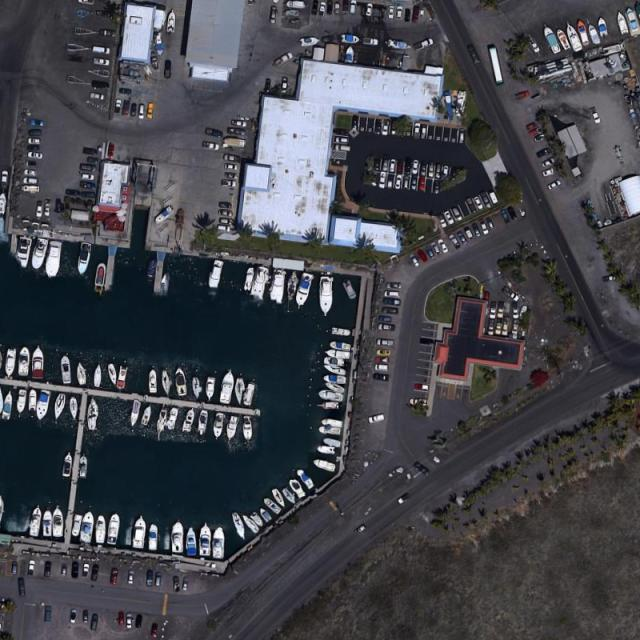vehicle: (276, 54, 293, 68), (503, 286, 518, 301), (415, 38, 432, 50), (591, 107, 602, 125), (479, 193, 491, 208), (369, 415, 386, 425), (414, 462, 428, 474), (506, 206, 517, 221), (443, 210, 454, 225), (92, 81, 110, 90), (206, 128, 222, 138), (489, 189, 499, 205), (535, 148, 551, 158), (90, 613, 99, 630), (448, 234, 458, 249), (452, 208, 462, 223), (90, 92, 106, 101), (100, 29, 116, 38), (80, 163, 96, 172), (398, 494, 410, 506), (467, 200, 478, 213), (204, 140, 218, 150), (438, 238, 448, 252), (409, 253, 419, 267), (334, 144, 351, 152), (385, 298, 402, 306), (380, 173, 388, 190), (27, 151, 42, 160), (501, 209, 510, 224), (471, 222, 480, 237), (354, 525, 366, 536), (479, 221, 489, 234), (418, 249, 428, 262), (474, 198, 484, 211), (516, 92, 529, 102), (542, 158, 555, 168), (410, 399, 426, 407), (457, 231, 466, 245), (425, 245, 434, 259), (547, 180, 561, 189), (30, 118, 45, 126), (223, 154, 238, 162), (232, 121, 247, 129), (82, 563, 90, 578), (438, 215, 447, 228), (525, 121, 538, 130), (535, 133, 548, 142), (164, 59, 170, 78), (147, 102, 154, 118), (490, 302, 497, 318), (386, 282, 400, 290), (378, 323, 394, 330), (519, 306, 527, 320), (395, 174, 402, 190), (418, 176, 425, 192), (502, 320, 510, 334), (528, 129, 542, 137), (512, 321, 520, 335), (414, 384, 430, 391), (44, 606, 51, 622), (18, 579, 25, 595), (382, 120, 389, 136), (464, 227, 473, 239), (430, 242, 439, 254), (81, 182, 96, 189), (282, 77, 289, 92), (414, 123, 421, 138), (94, 59, 109, 66), (384, 291, 399, 298), (382, 307, 397, 314), (118, 610, 125, 625), (29, 561, 36, 576), (91, 565, 98, 580), (111, 570, 118, 585), (326, 1, 334, 14), (366, 4, 374, 17), (486, 217, 494, 230), (542, 168, 555, 176), (377, 340, 394, 346), (371, 373, 388, 379), (84, 148, 98, 155), (115, 99, 122, 113), (82, 174, 96, 181), (23, 178, 37, 185), (311, 1, 318, 15), (350, 1, 357, 15), (364, 37, 378, 44), (228, 127, 242, 134), (602, 276, 616, 283), (147, 572, 154, 586), (397, 160, 404, 174), (226, 162, 238, 170), (512, 302, 518, 318), (421, 338, 433, 346), (72, 563, 78, 579), (265, 78, 272, 91), (374, 157, 381, 170), (382, 158, 389, 171), (218, 226, 231, 233), (222, 180, 235, 187), (70, 610, 77, 623), (108, 144, 114, 159), (45, 200, 51, 215), (412, 7, 418, 22), (271, 8, 277, 23), (95, 47, 110, 53), (497, 302, 503, 317), (488, 319, 494, 334), (46, 562, 52, 577), (126, 613, 132, 628), (412, 159, 418, 174), (24, 186, 38, 192), (459, 128, 465, 142), (218, 218, 232, 224), (220, 211, 232, 218), (374, 357, 388, 363), (496, 319, 502, 333), (434, 166, 441, 178), (442, 166, 449, 178), (371, 174, 378, 186), (135, 615, 142, 627), (182, 579, 189, 591), (2, 170, 7, 186), (124, 102, 130, 115), (130, 104, 136, 117), (35, 204, 41, 217), (320, 2, 326, 15), (388, 6, 394, 19), (377, 350, 390, 356), (388, 176, 394, 189), (26, 170, 37, 177), (411, 179, 418, 190), (390, 158, 395, 173), (118, 88, 130, 94), (88, 158, 100, 164), (392, 122, 398, 134), (421, 126, 427, 138), (484, 291, 490, 303), (152, 624, 158, 636), (12, 562, 18, 574), (336, 130, 350, 135), (429, 164, 434, 178), (374, 366, 388, 371), (342, 1, 348, 12), (405, 10, 411, 21), (352, 117, 358, 128), (62, 565, 68, 576), (128, 572, 134, 583), (140, 105, 145, 118), (397, 6, 402, 19), (378, 317, 391, 322), (174, 578, 179, 591), (405, 162, 410, 175), (31, 130, 41, 136), (83, 192, 95, 197), (421, 164, 426, 176), (404, 178, 409, 190), (434, 182, 439, 194), (156, 574, 161, 586), (226, 174, 240, 178), (29, 139, 40, 144), (28, 146, 39, 151), (26, 162, 37, 167), (56, 201, 61, 212), (334, 2, 339, 13), (336, 138, 347, 143), (83, 611, 88, 622), (220, 203, 230, 208), (78, 1, 94, 4), (66, 190, 78, 194), (1, 602, 4, 610), (249, 1, 253, 3)
